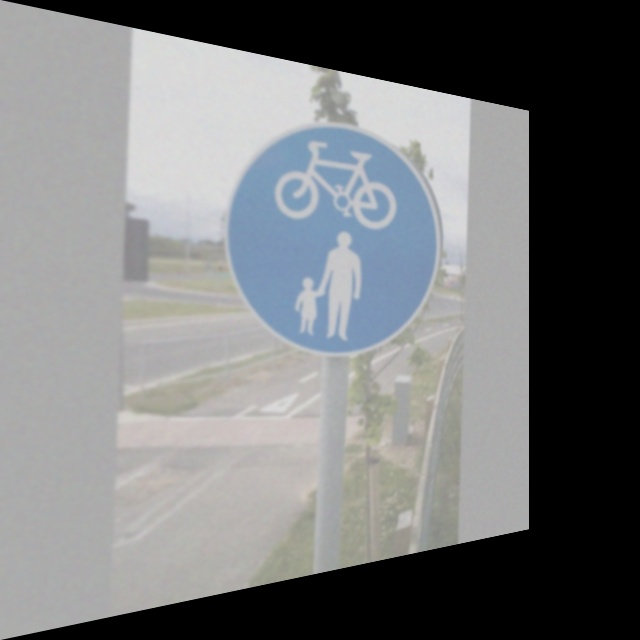Compulsory_Cycle_Track: (227, 99, 445, 352)
